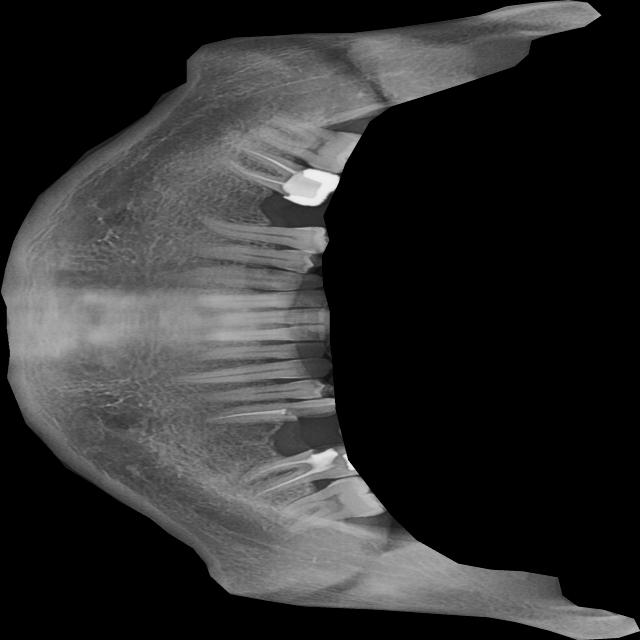mandibula: (0, 0, 639, 640)
